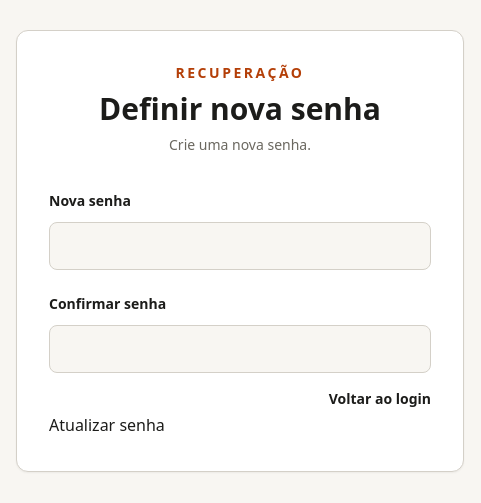
ResetPasswordPage › validates divergent password confirmation client-side
Type "Password123" into the password field labelled "Nova senha". click: (240, 246)
box: top-left (49, 222), bottom-right (431, 270)
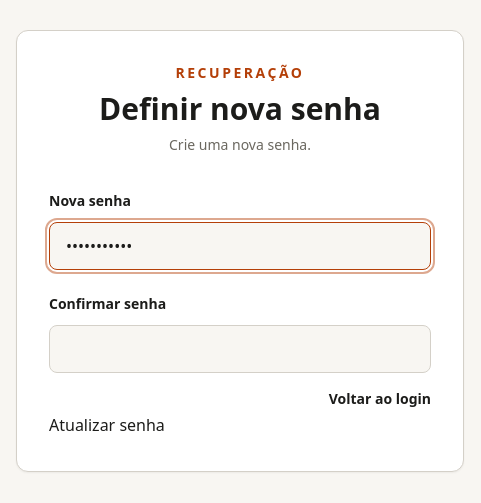
Type "Different123" into the password field labelled "Confirmar senha". click: (240, 349)
box: top-left (49, 325), bottom-right (431, 373)
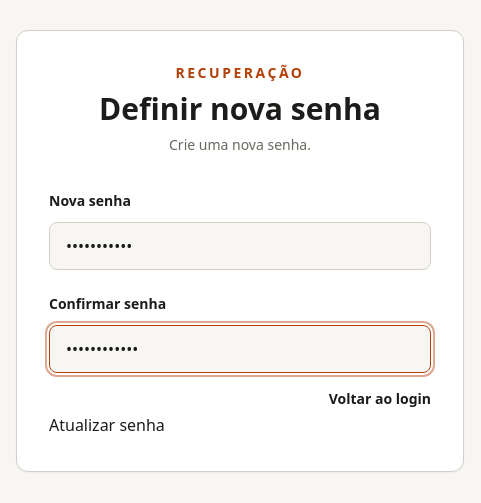
Click the button "Atualizar senha". click: (107, 426)
box: top-left (49, 412), bottom-right (165, 439)
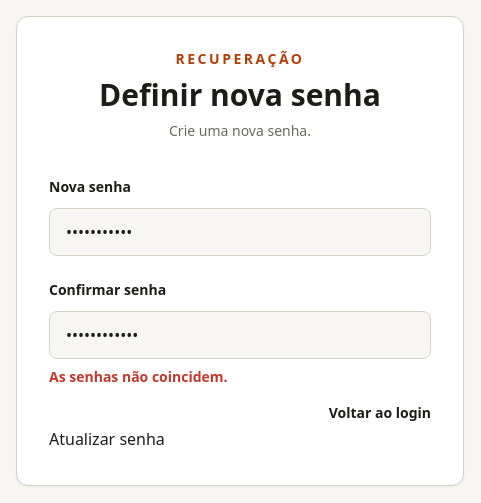
Expected: the text "As senhas não coincidem." is shown, top-left (49, 367), bottom-right (228, 386)
